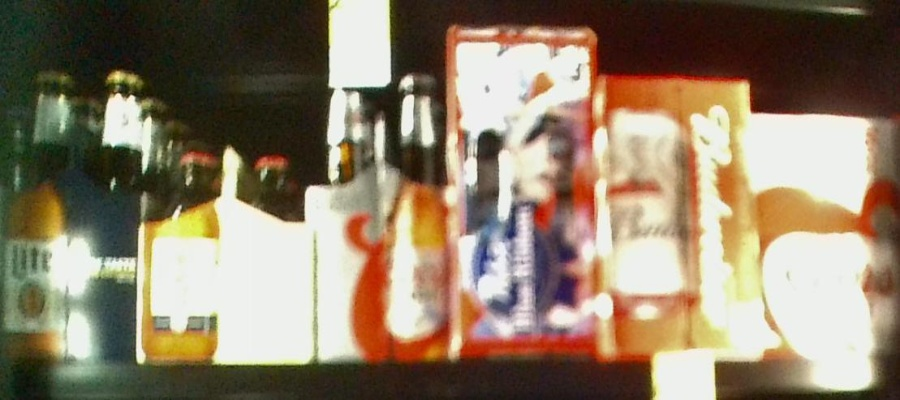bottle: (449, 27, 596, 357), (599, 64, 760, 359), (316, 69, 450, 362), (137, 144, 316, 362), (14, 62, 138, 362), (754, 110, 900, 355)
